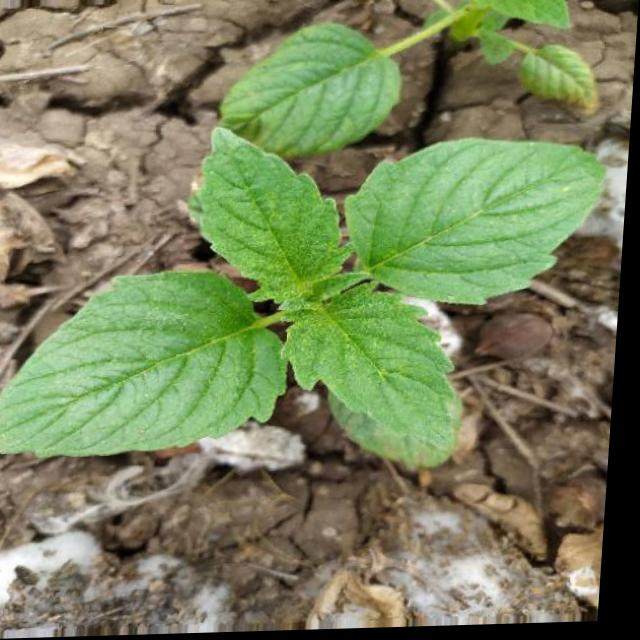crop: (0, 105, 634, 480)
